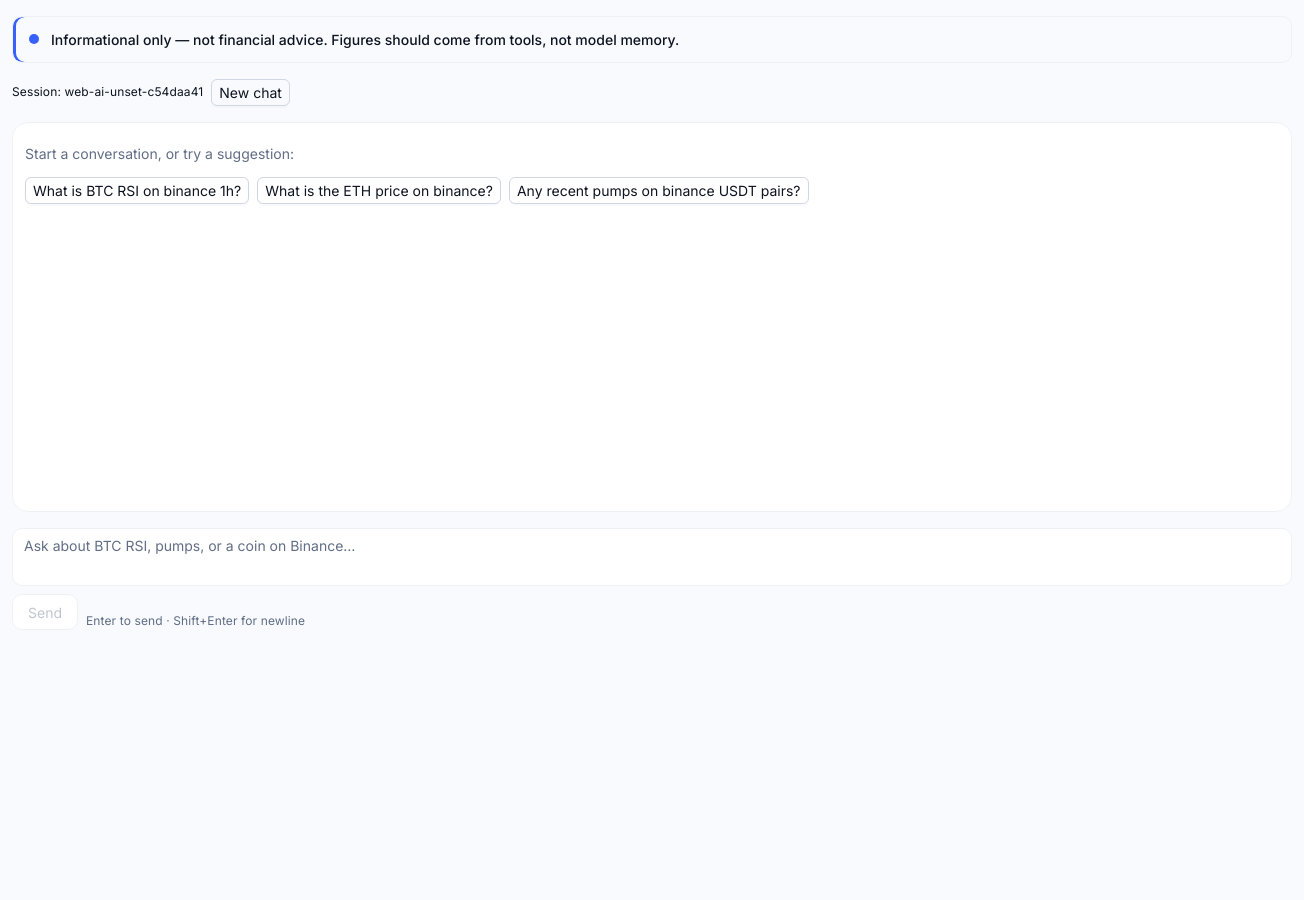
Test: AiChatPage › shows error bubble when the API fails
Type "hello" into the text box. click: {"x": 652, "y": 557}
box: [12,528,1292,586]
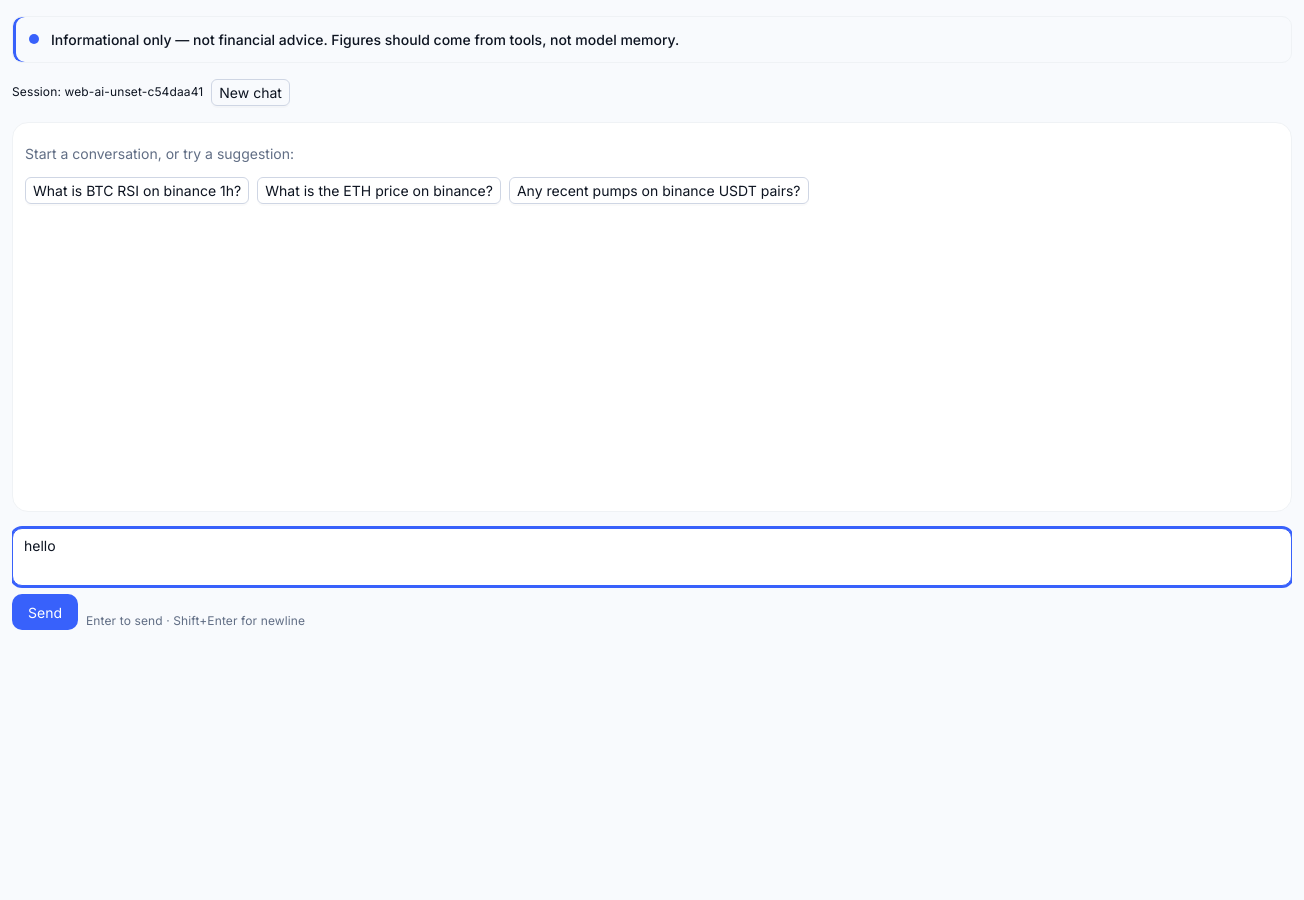
Click the button "Send". click: {"x": 45, "y": 612}
box: [12,594,78,630]
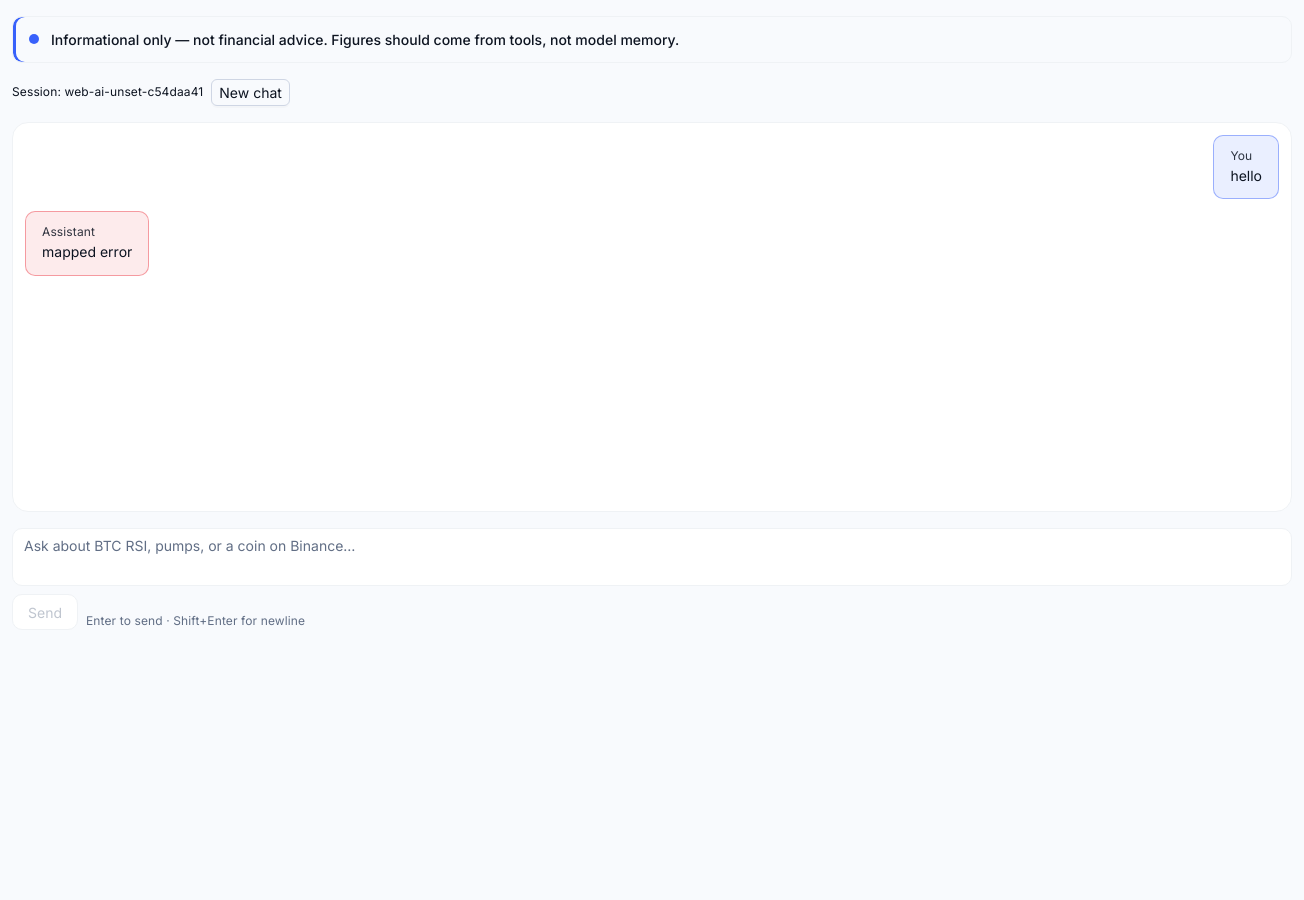
Expected: the text "mapped error" is shown, [42,241,132,263]
